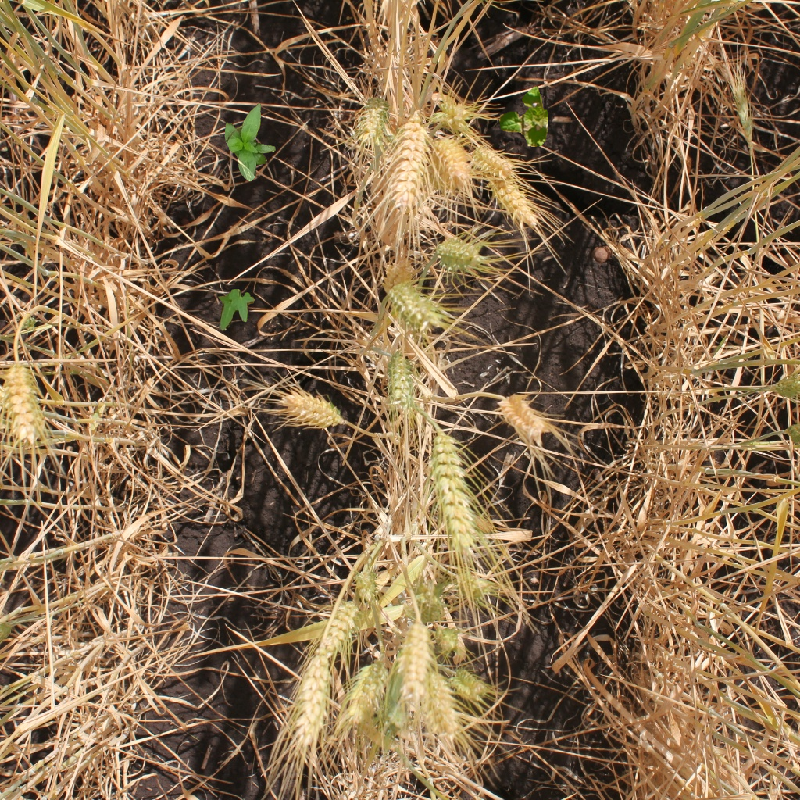spikelet: (427, 426, 479, 554), (473, 144, 540, 228), (385, 113, 431, 222), (288, 647, 337, 749), (1, 359, 47, 443), (393, 619, 435, 708), (418, 667, 465, 744), (342, 655, 389, 723), (386, 279, 445, 330), (279, 387, 344, 429), (497, 391, 547, 442), (433, 134, 475, 192), (318, 597, 361, 651), (384, 348, 419, 414), (433, 234, 485, 273), (450, 563, 497, 605), (352, 96, 390, 147), (408, 576, 449, 622), (448, 663, 493, 702), (433, 97, 475, 133), (351, 564, 384, 602), (433, 621, 465, 657), (776, 359, 800, 402)
weed: (220, 101, 281, 185), (499, 86, 548, 147), (218, 289, 255, 331)
